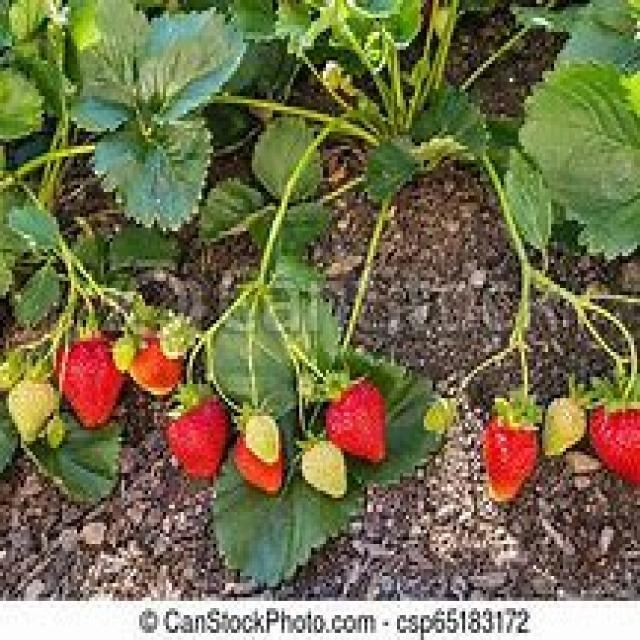Berries strawberries/blueberries: (167, 395, 230, 478), (587, 391, 640, 489), (484, 412, 539, 502), (67, 335, 115, 434), (344, 378, 388, 464), (542, 394, 587, 459), (298, 442, 346, 502)
